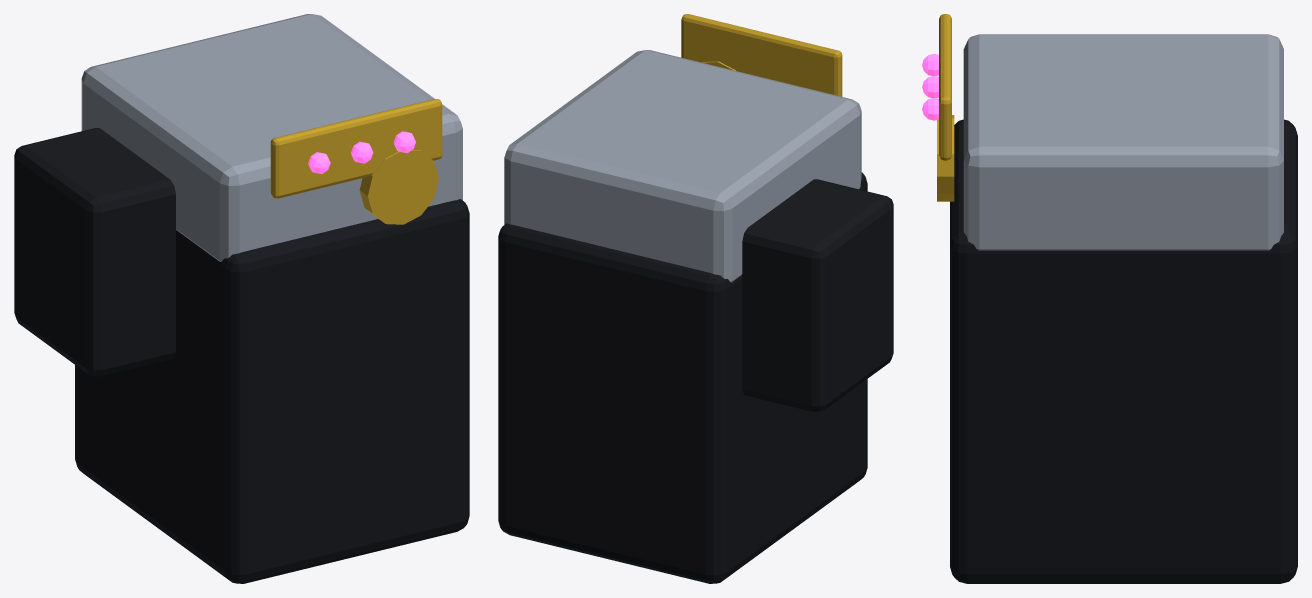
File: coffee-machine.glb
3 renders of one model, left to right at view 1: azimuth 30°, elevation 25°; view 2: azimuth 150°, elevation 25°; view 3: azimuth 270°, elevation 25°, orthographic. The views are drawn at different scales.
Parts seen in each view (by area): view 1: body; view 2: body; view 3: body.
Part boxes in pixels (bbox=[...]): body: bbox=[14, 14, 469, 583]; body: bbox=[498, 14, 893, 583]; body: bbox=[922, 14, 1297, 583].
Bounding box in the file's own units: 0.458 × 0.598 × 0.432.
